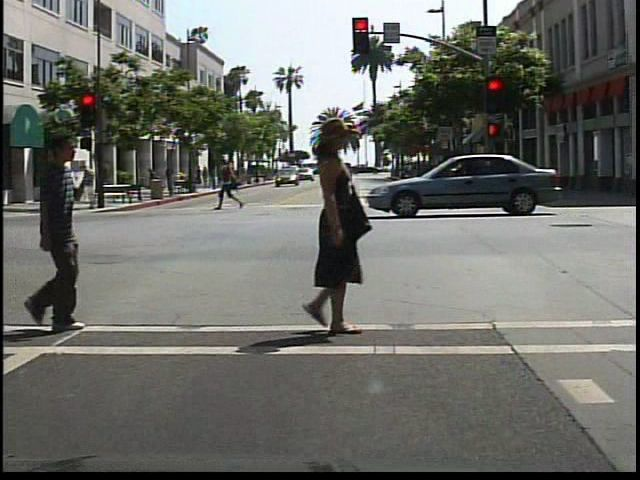person: (271, 116, 392, 333), (20, 129, 102, 334), (216, 155, 243, 211), (146, 164, 166, 198)
